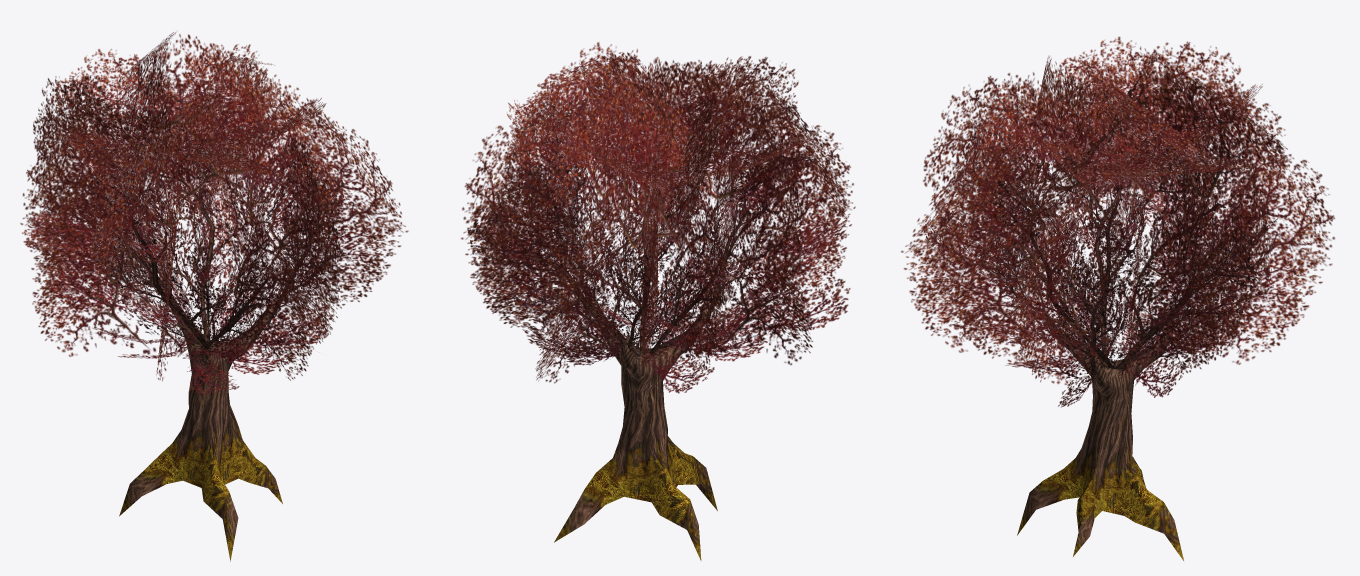
File: fo_s1_arbragrelot.glb
The picture shows the model from 3 angles, left to right: view 1: azimuth 30°, elevation 25°; view 2: azimuth 150°, elevation 25°; view 3: azimuth 270°, elevation 25°; orthographic projection. The views are drawn at different scales.
Parts seen in each view (by area): view 1: FO_S1_arbragrelot; view 2: FO_S1_arbragrelot; view 3: FO_S1_arbragrelot.
Part boxes in pixels (box(x1,y1,x2,y2)): FO_S1_arbragrelot: box(20, 32, 408, 561); FO_S1_arbragrelot: box(461, 42, 855, 560); FO_S1_arbragrelot: box(901, 36, 1334, 560).
Bounding box in the file's own units: 28.2 × 37.75 × 30.28.
Materials: 5 (5 with a texture image).
